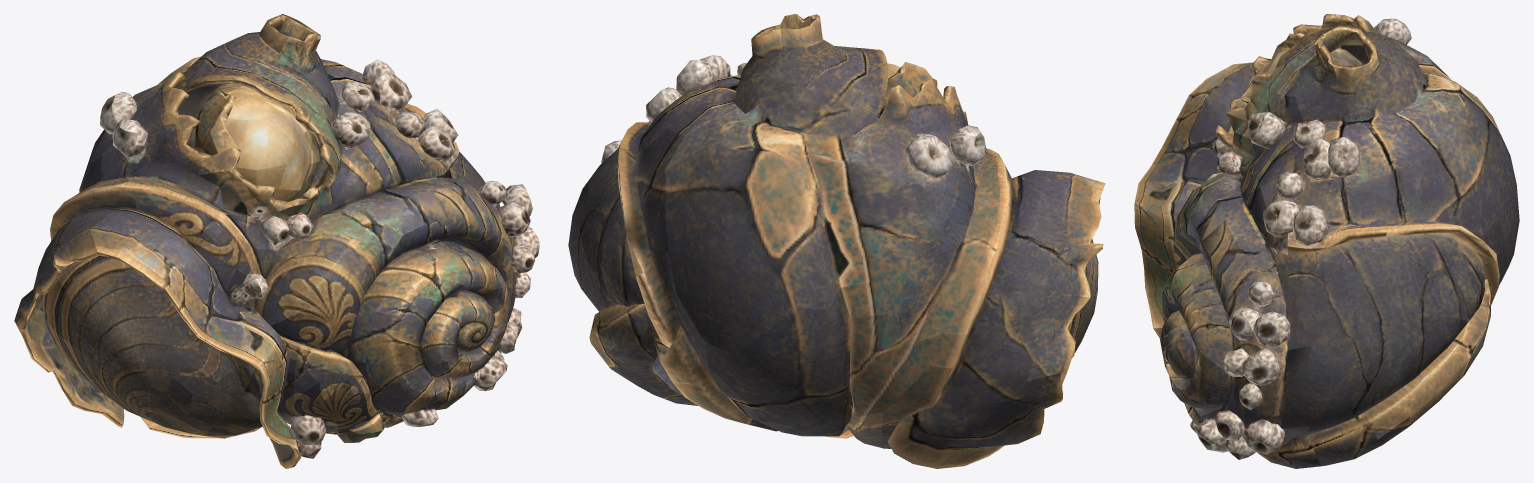
The model's file is boss_shell_textured_meshy.glb.
The picture shows the model from 3 angles, left to right: view 1: azimuth 30°, elevation 25°; view 2: azimuth 150°, elevation 25°; view 3: azimuth 270°, elevation 25°; orthographic projection. The views are drawn at different scales.
Size of the model in its own units: 2 by 1.61 by 1.45.
1 material, 1 textured.
